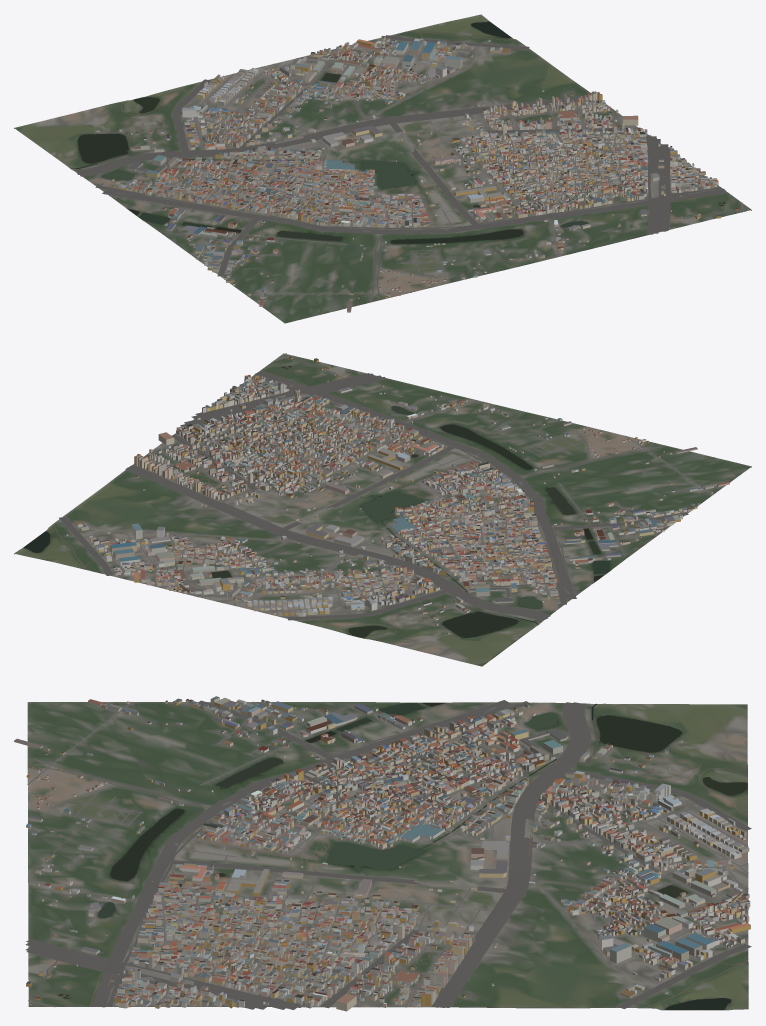
The picture shows the model from 3 angles, top to bottom: view 1: azimuth 30°, elevation 25°; view 2: azimuth 150°, elevation 25°; view 3: azimuth 270°, elevation 25°; orthographic projection. The views are drawn at different scales.
Visible parts, largest first — view 1: ground, buildings, roads, water; view 2: ground, buildings, roads, water; view 3: ground, buildings, roads, water.
Boxes of the visible parts, box(x1,y1,x2,y2) form: ground: box(14, 14, 751, 323); buildings: box(96, 36, 748, 312); roads: box(76, 31, 743, 319); water: box(71, 21, 725, 243); ground: box(14, 353, 751, 666); buildings: box(65, 353, 729, 634); roads: box(52, 355, 745, 640); water: box(23, 365, 609, 637); ground: box(27, 702, 748, 1010); buildings: box(14, 696, 750, 1011); roads: box(25, 700, 751, 1009); water: box(58, 702, 747, 1009).
Size of the model in its own units: 1429 by 37.63 by 1437.
